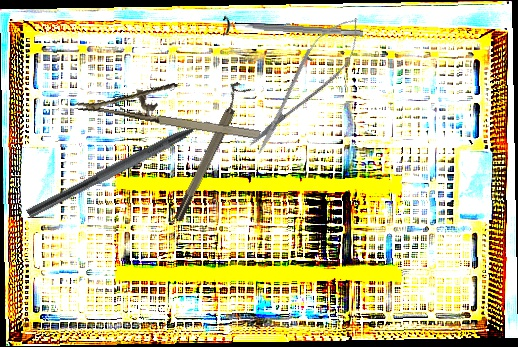Chopper: (25, 107, 230, 232)
Fixation Ring: (166, 80, 252, 223), (222, 15, 364, 45)
Micro Scissor: (237, 6, 374, 163)
Needle Holder: (73, 65, 267, 145)
